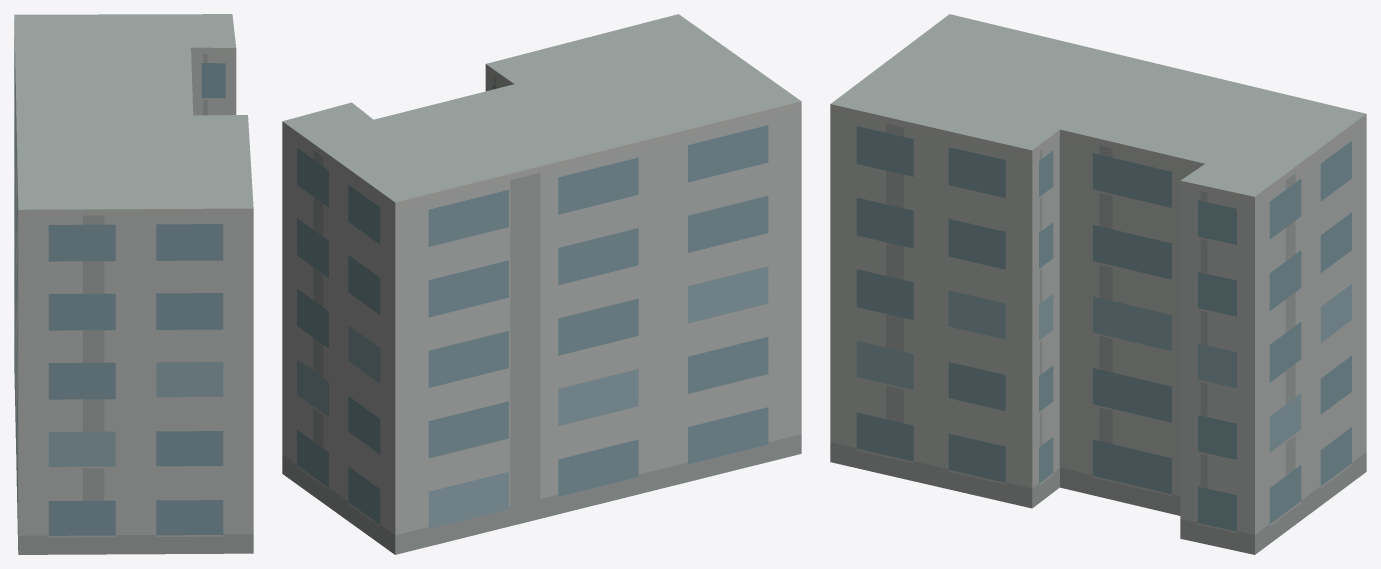
File: survey-upis-32799689.glb
The picture shows the model from 3 angles, left to right: view 1: azimuth 30°, elevation 25°; view 2: azimuth 150°, elevation 25°; view 3: azimuth 270°, elevation 25°; orthographic projection. The views are drawn at different scales.
Visible parts, largest first — view 1: survey-upis-32799689.tmp; view 2: survey-upis-32799689.tmp; view 3: survey-upis-32799689.tmp.
Boxes of the visible parts, x1,y1,x2,y2 form: survey-upis-32799689.tmp: [14, 14, 253, 554]; survey-upis-32799689.tmp: [282, 14, 801, 554]; survey-upis-32799689.tmp: [830, 14, 1366, 554].
Bounding box in the file's own units: 14.8 × 13.5 × 18.33.
